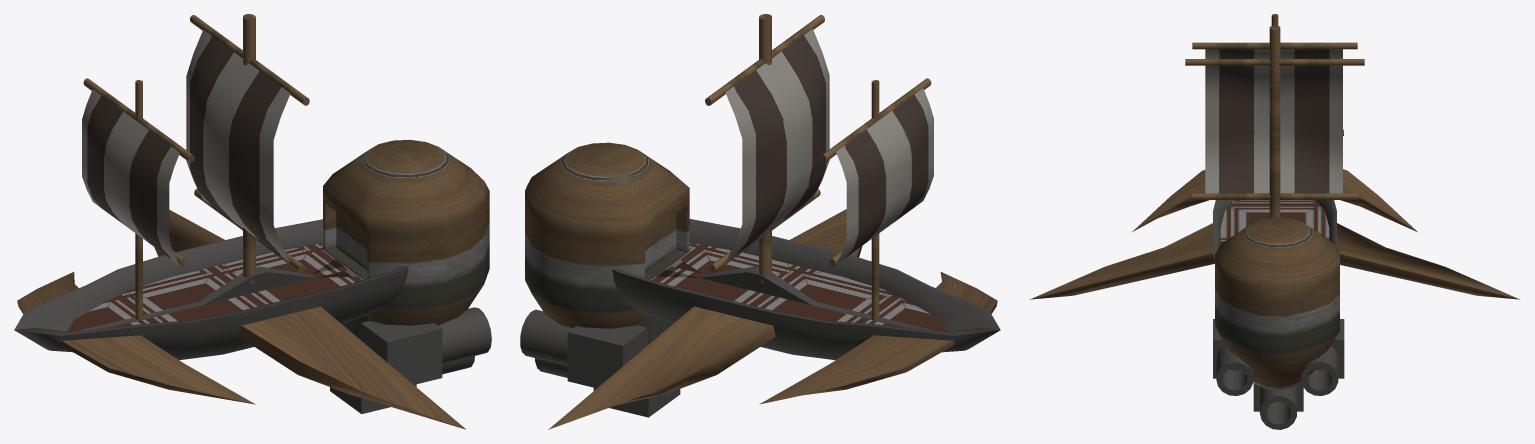
File: enemie 2.fbx
The picture shows the model from 3 angles, left to right: view 1: azimuth 30°, elevation 25°; view 2: azimuth 150°, elevation 25°; view 3: azimuth 270°, elevation 25°; orthographic projection. The views are drawn at different scales.
Parts seen in each view (by area): view 1: Oil_Tank, boat, wings, zijl_1, zijl_2, platform, Cube, Tube_2, mast_1, mast_4, mast_3, mast__2 (+1 smaller); view 2: Oil_Tank, boat, wings, zijl_1, zijl_2, platform, Cube, Tube_1, mast_1, mast_3, mast_4, mast__2 (+1 smaller); view 3: Oil_Tank, zijl_1, wings, platform, mast_1, Tube, Tube_2, Tube_1, zijl_2, mast__2, Cube, mast_4 (+2 smaller).
Boxes of the visible parts, x1,y1,x2,y2 form: Oil_Tank: (323, 139, 489, 325); boat: (14, 219, 408, 360); wings: (17, 209, 466, 429); zijl_1: (186, 30, 290, 262); zijl_2: (82, 89, 179, 265); platform: (67, 243, 363, 331); Cube: (330, 321, 442, 413); Tube_2: (438, 307, 491, 363); mast_1: (243, 14, 255, 282); mast_4: (190, 15, 309, 105); mast_3: (135, 80, 142, 320); mast__2: (83, 78, 194, 162); Oil_Tank: (525, 142, 689, 328); boat: (612, 219, 1000, 360); wings: (548, 209, 997, 429); zijl_1: (725, 29, 829, 262); zijl_2: (836, 88, 933, 264); platform: (651, 243, 947, 331); Cube: (567, 325, 680, 417); Tube_1: (520, 309, 572, 365); mast_1: (759, 14, 771, 282); mast_3: (871, 80, 879, 320); mast_4: (705, 15, 824, 105); mast__2: (820, 78, 931, 162); Oil_Tank: (1215, 217, 1339, 390); zijl_1: (1205, 65, 1342, 193); wings: (1030, 169, 1519, 299); platform: (1220, 200, 1329, 243); mast_1: (1269, 25, 1280, 217); Tube: (1259, 386, 1296, 429); Tube_2: (1216, 345, 1253, 395); Tube_1: (1301, 346, 1338, 395); zijl_2: (1205, 49, 1342, 58); mast__2: (1192, 42, 1357, 49); Cube: (1213, 319, 1344, 411); mast_4: (1185, 59, 1364, 65).
Bounding box in the file's own units: 2040 × 1713 × 2348.
Materials: 6 (6 with a texture image).
